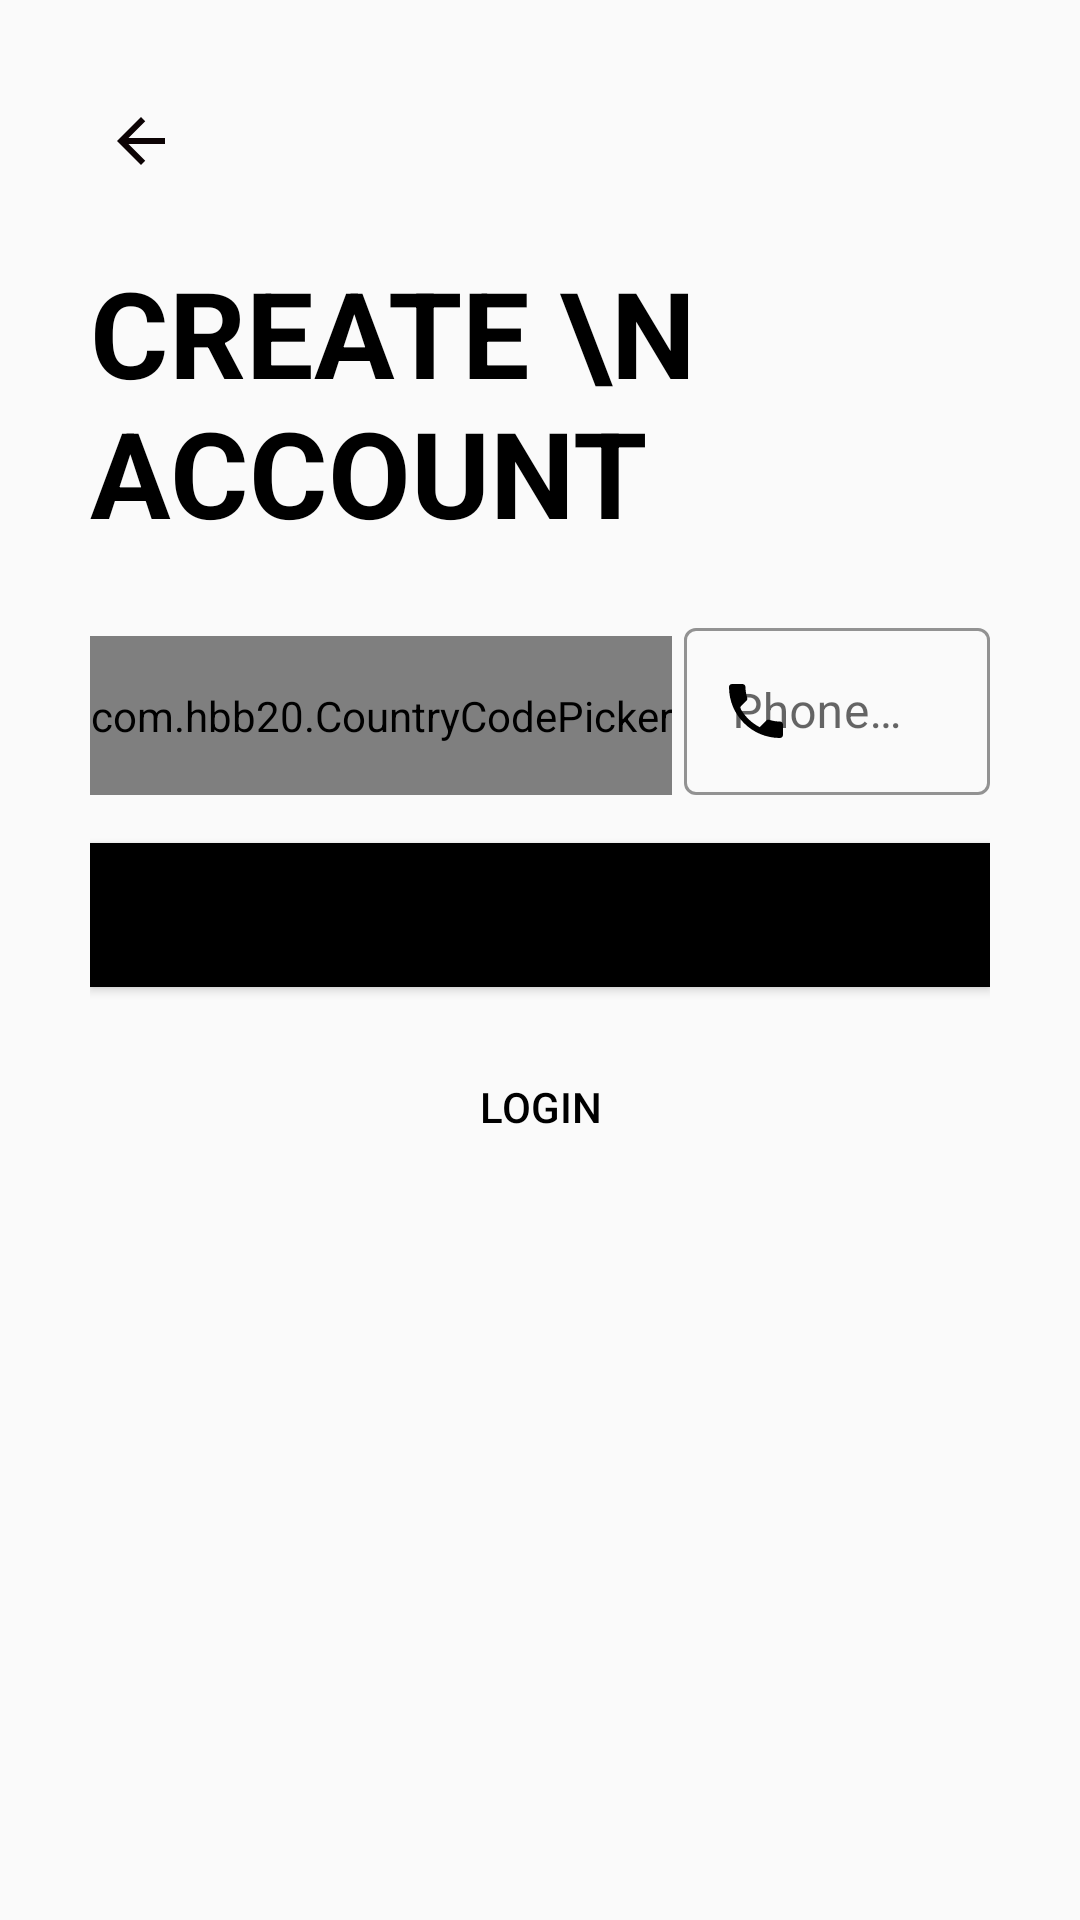

Icon bounding boxes for this 1080 × 1920 phone screenshot, format {"x1": x1, "y1": y1, "x2": x2, "y2": y2}:
arrow back: {"x1": 117, "y1": 117, "x2": 165, "y2": 165}
